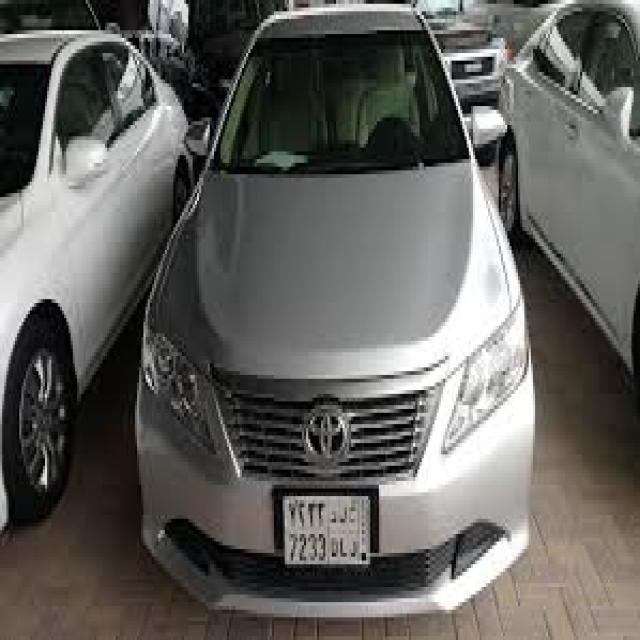license_plate: (280, 492, 372, 572)
